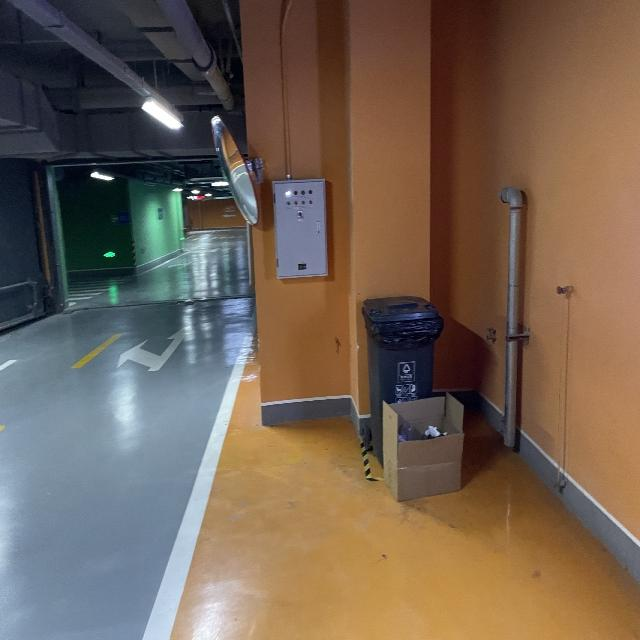garbage: (381, 392, 463, 501)
garbage_bin: (361, 295, 443, 467)
